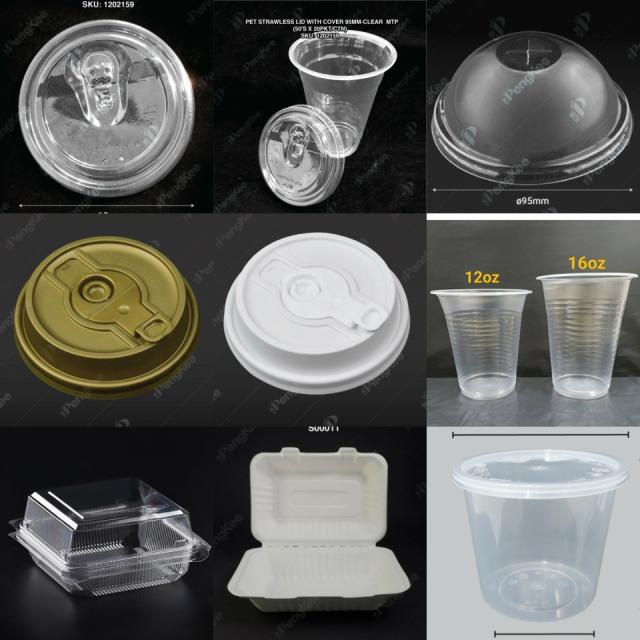Single-Use-Plastic: (19, 20, 194, 196), (431, 32, 632, 184), (451, 450, 629, 621), (224, 232, 410, 394), (14, 236, 199, 398), (228, 448, 410, 612), (11, 476, 210, 596), (287, 25, 400, 158), (538, 272, 636, 399), (433, 290, 529, 399), (260, 106, 348, 206)
